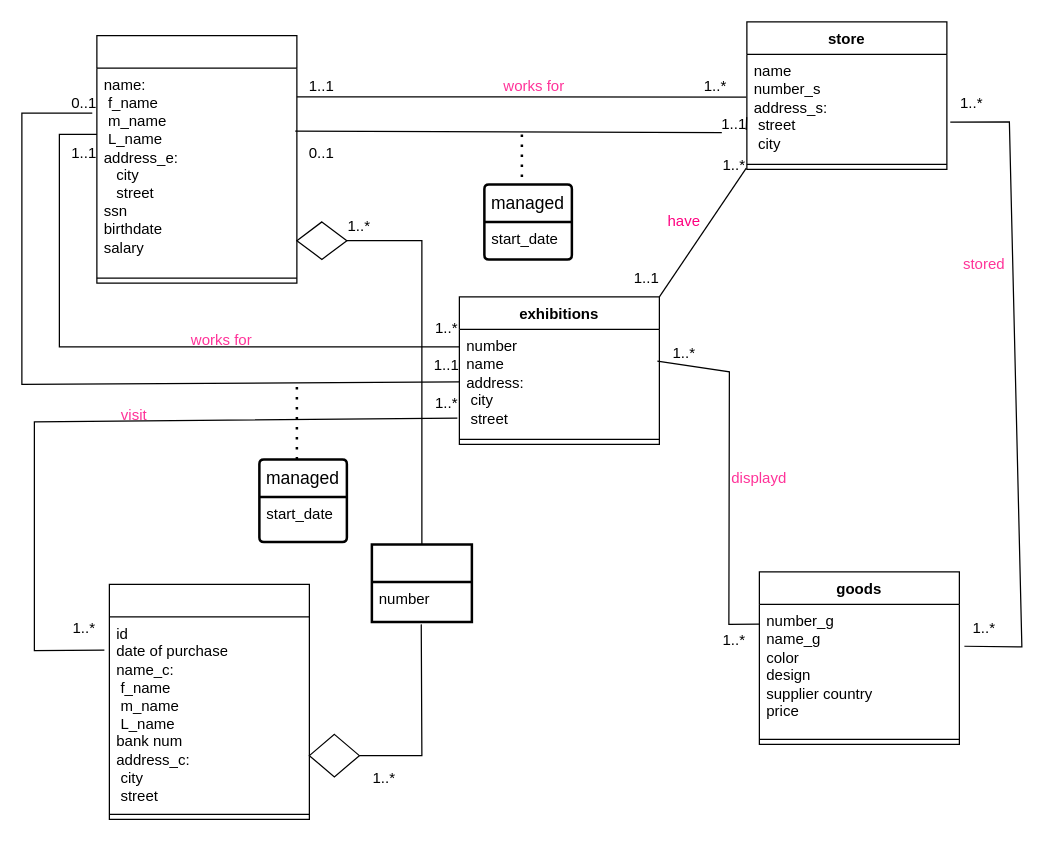
Some shapes in this 1045 by 841 pixel diagram are drawn without their labels. The shapes that lost their labels are listed below. From the top down, each one's box as (x1, y1, x2, y2) in pixels, then its label:
(96, 34, 297, 283): employee
(370, 542, 472, 622): phone
(108, 583, 309, 819): customer
